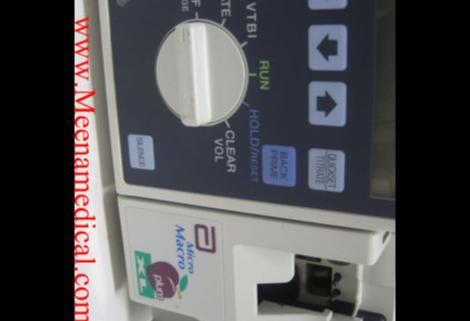plumxl1: (102, 4, 396, 319)
